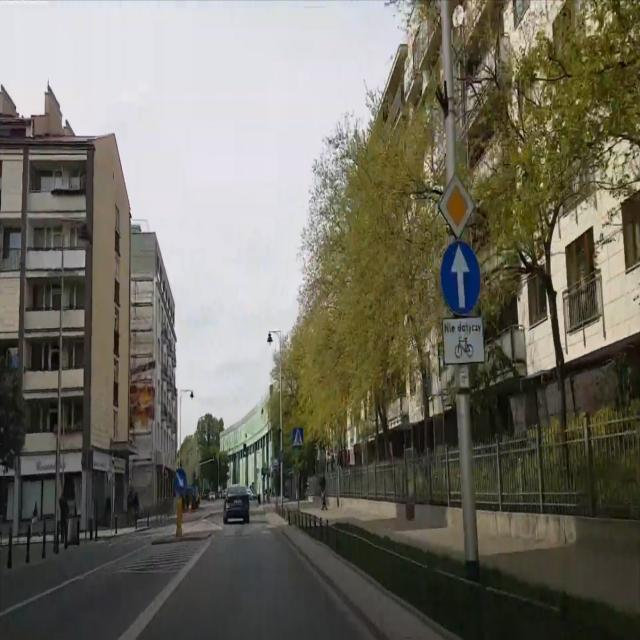Droga z pierwszenstwem: (440, 175, 472, 238)
Przejscie dla pieszych: (293, 428, 304, 447)
